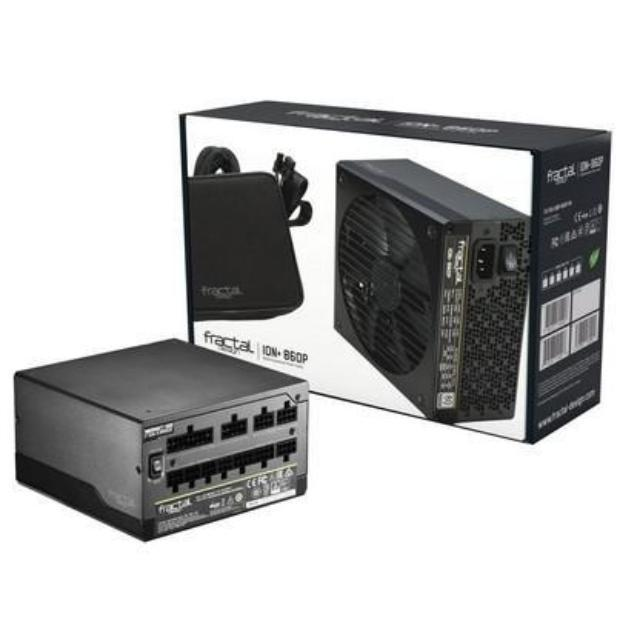PSU: (0, 336, 340, 547), (320, 141, 551, 444)
